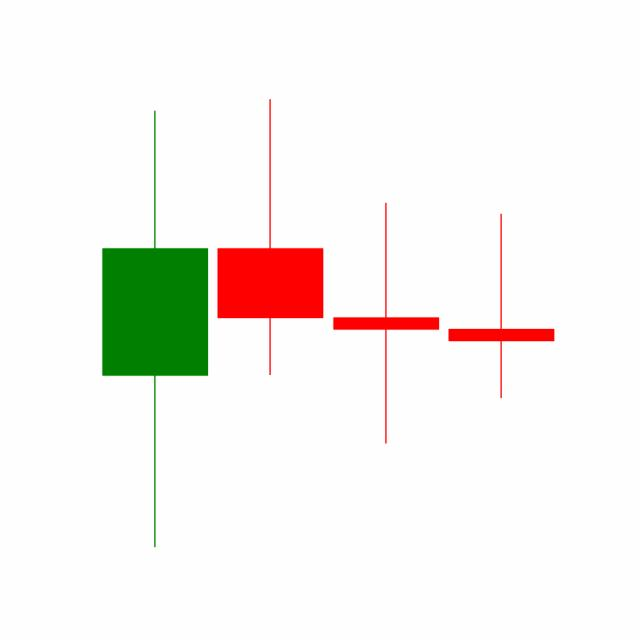Spinning Top: (443, 211, 559, 400)
